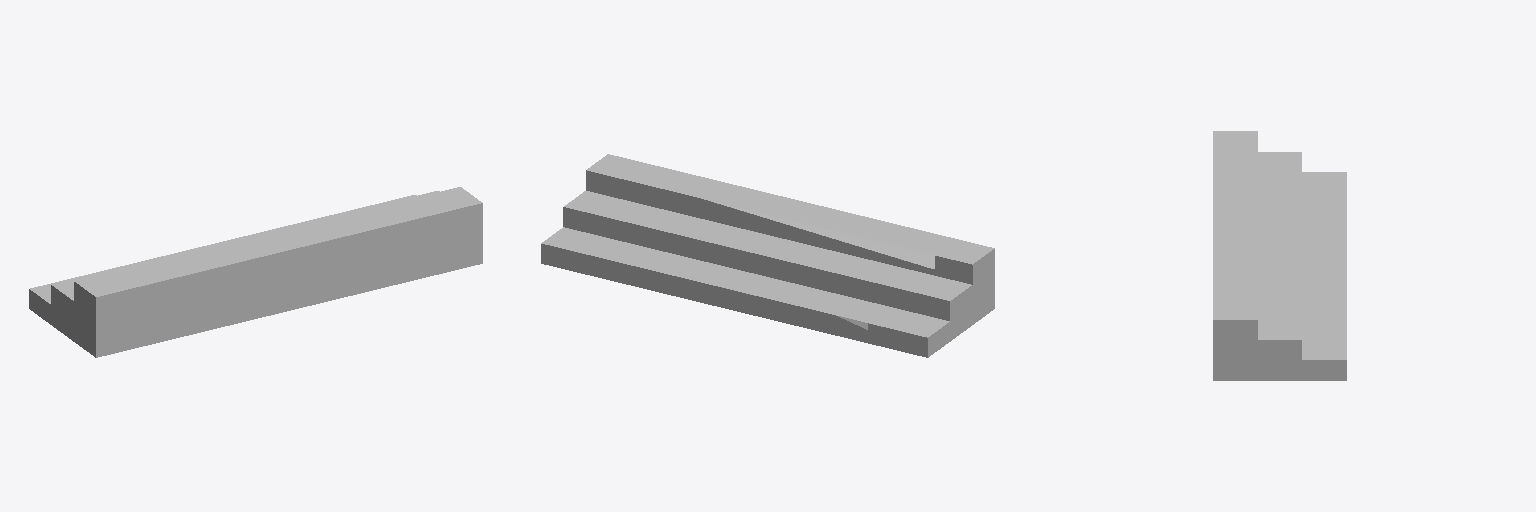
The model's file is step3.obj.
3 renders of one model, left to right at view 1: azimuth 30°, elevation 25°; view 2: azimuth 150°, elevation 25°; view 3: azimuth 270°, elevation 25°, orthographic.
Parts seen in each view (by area): view 1: Cube; view 2: Cube; view 3: Cube.
Boxes of the visible parts, x1,y1,x2,y2 form: Cube: [29, 187, 482, 357]; Cube: [541, 154, 994, 357]; Cube: [1213, 131, 1346, 380].
Size of the model in its own units: 2 by 0.3 by 0.6.